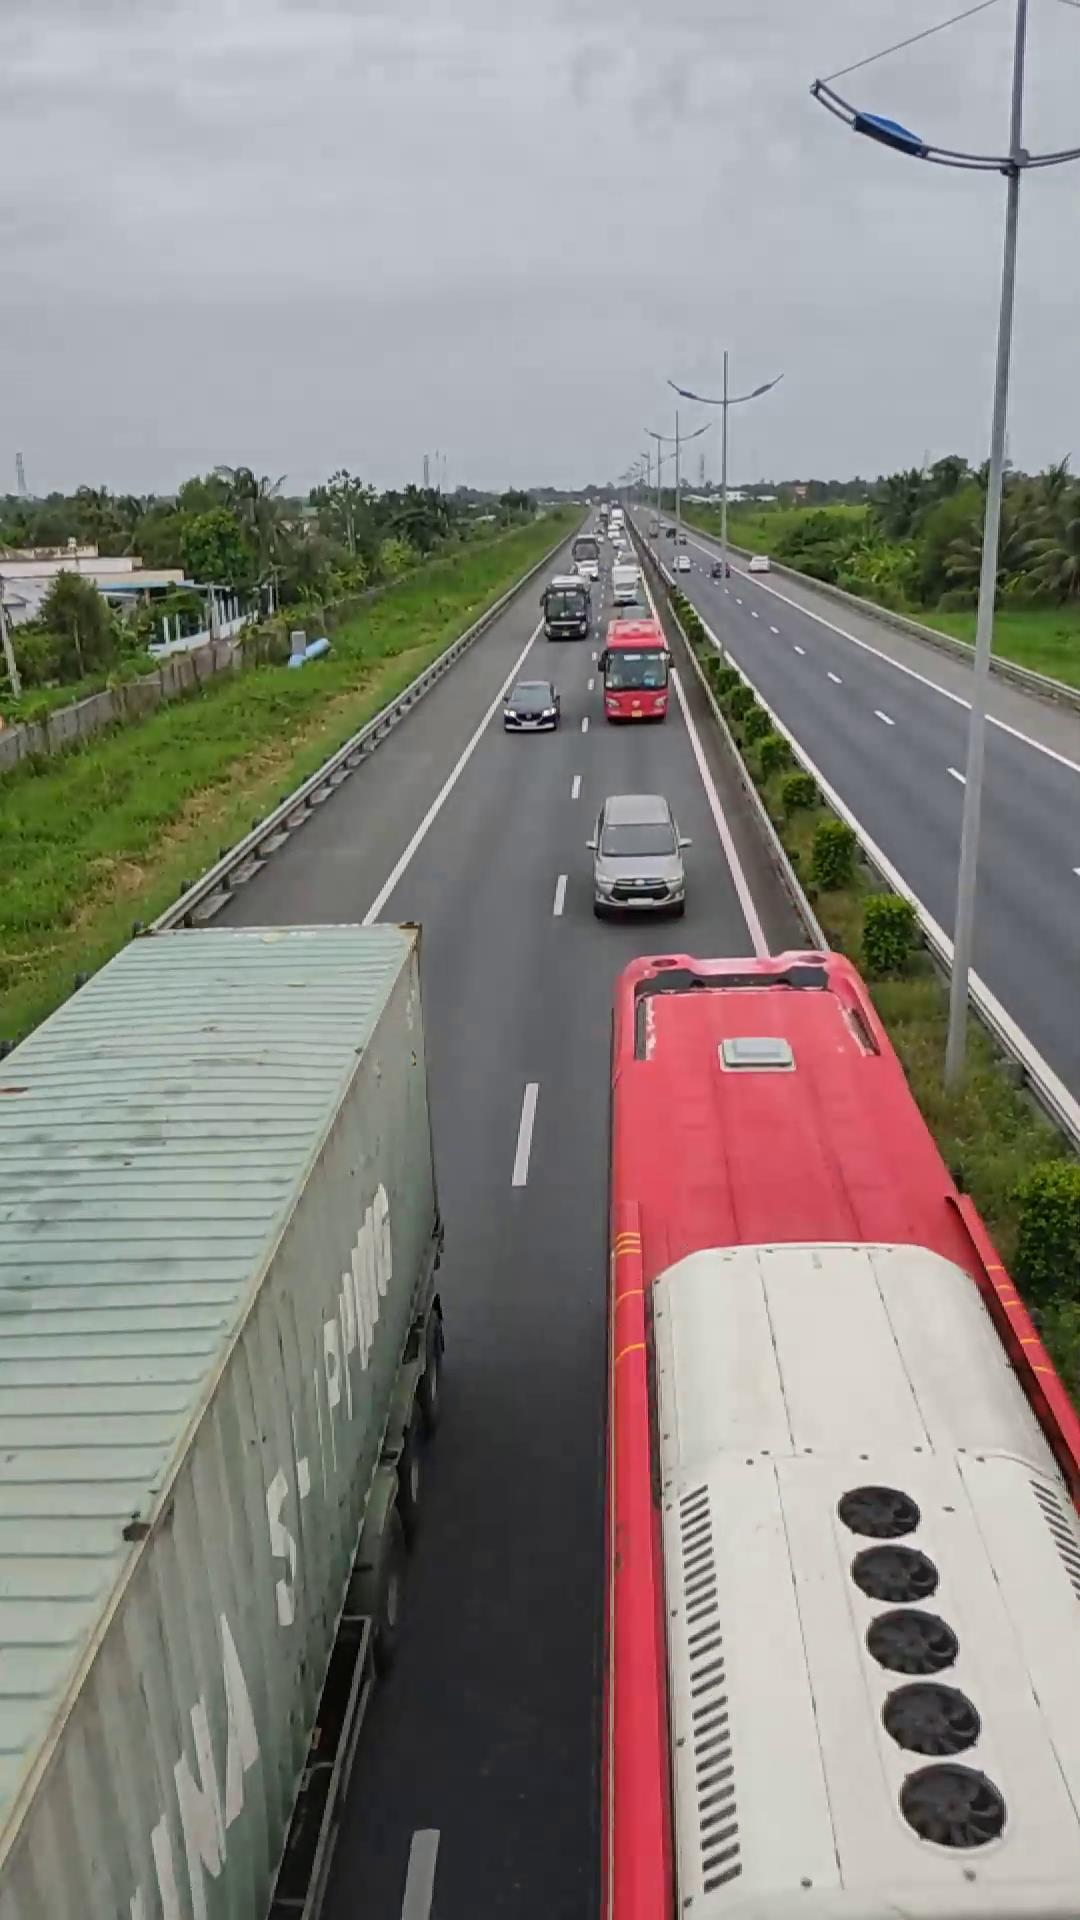bus: (604, 945, 1073, 1912)
car: (587, 793, 688, 916)
container: (0, 916, 456, 1920)
